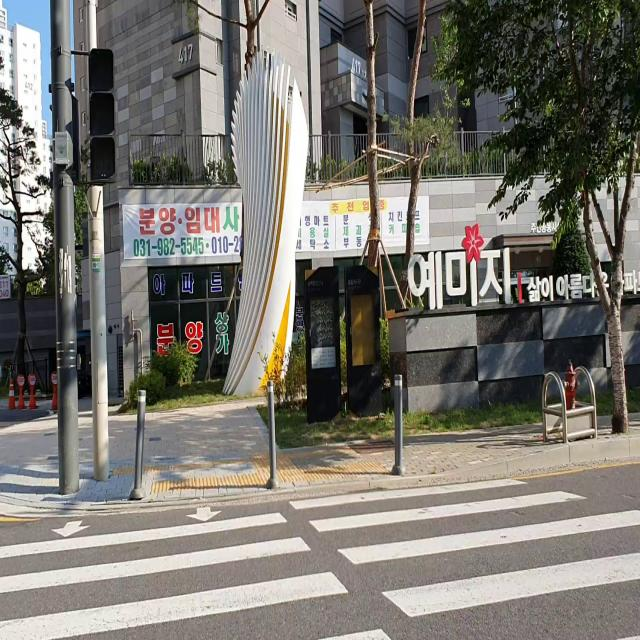횡단보도: (0, 475, 640, 638)
